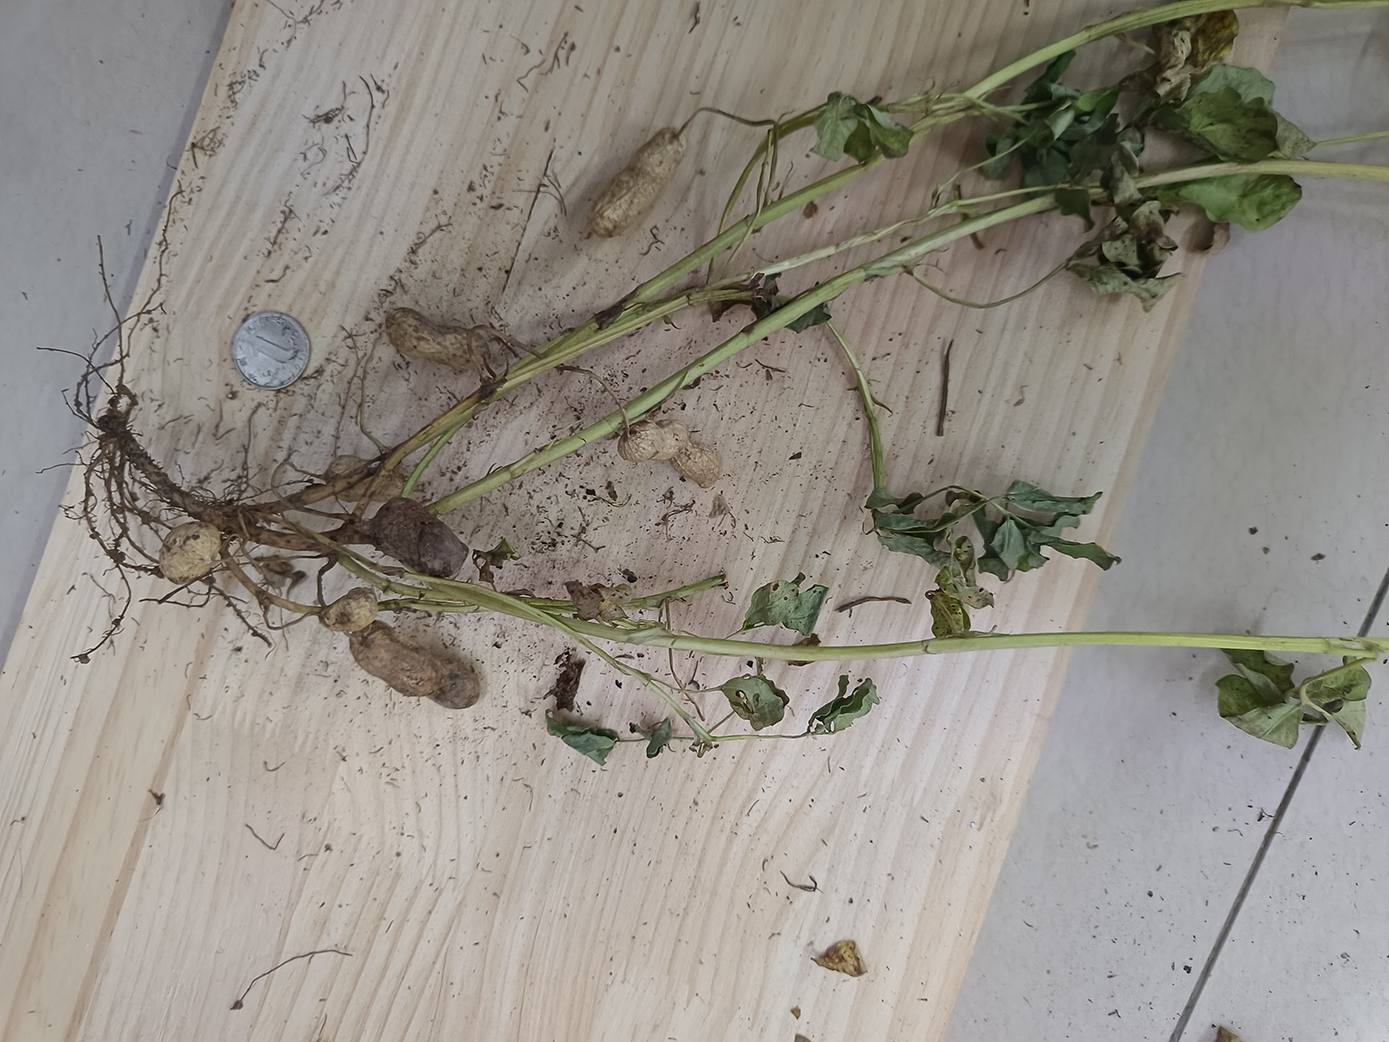h: (590, 125, 685, 238), (620, 418, 722, 488), (386, 306, 493, 370), (159, 521, 222, 584), (327, 454, 404, 499), (316, 586, 377, 630)
l: (351, 622, 479, 709), (372, 498, 468, 579)
